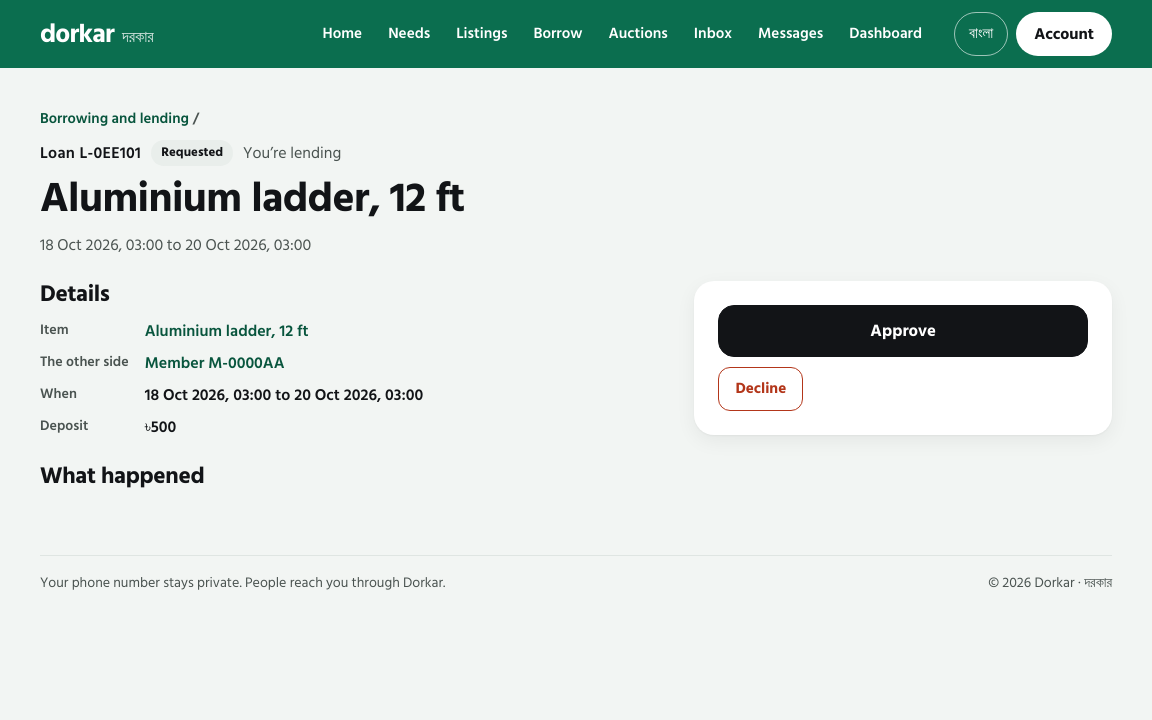
Test: borrowing › lets the lender approve
Click the button "Approve".
click(903, 331)  # box [718, 305, 1088, 357]
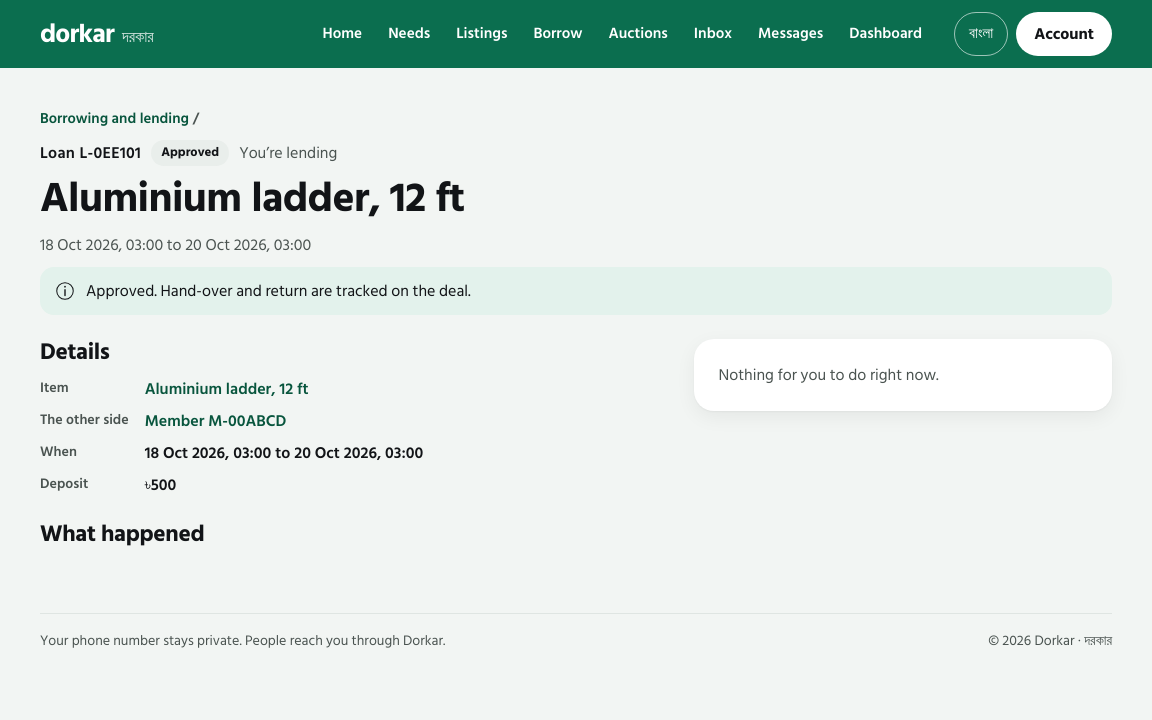
Check: the text "Approved. Hand-over and return are tracked on the deal." is shown, box [86, 278, 471, 304]
